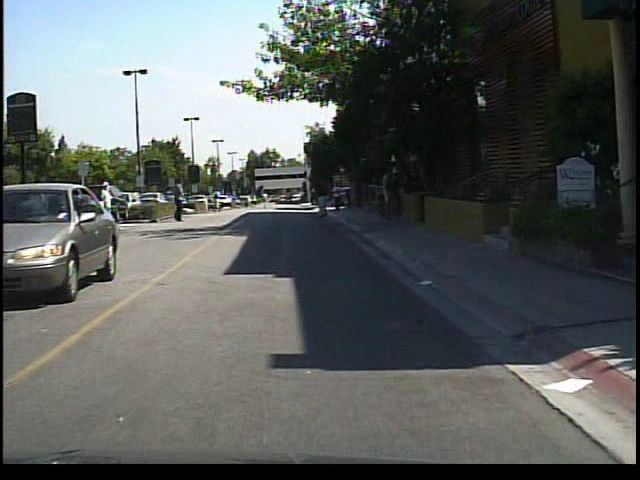person: (379, 159, 403, 227), (314, 167, 339, 221), (97, 176, 120, 228), (168, 174, 190, 225), (65, 181, 85, 230), (331, 176, 347, 215), (211, 186, 226, 215), (260, 189, 275, 212), (406, 163, 407, 217)
